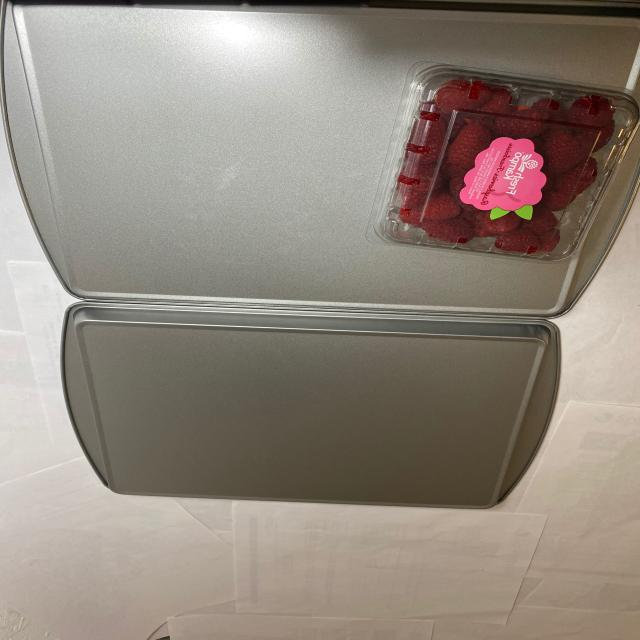raspberries: (390, 85, 616, 250)
